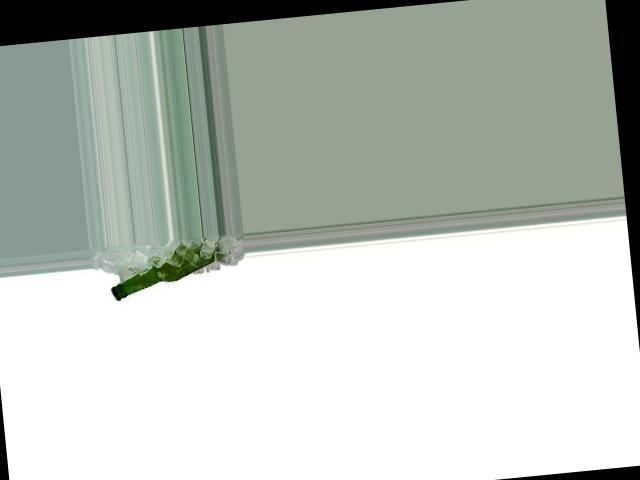beer: (106, 249, 225, 300)
